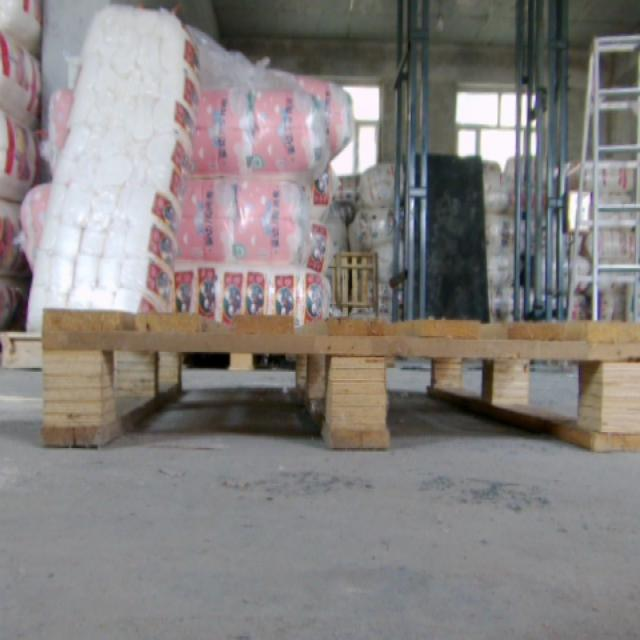block: (38, 335, 105, 448), (328, 343, 386, 447), (587, 355, 640, 450), (489, 352, 530, 408), (429, 352, 464, 392)
front: (36, 305, 640, 452)
